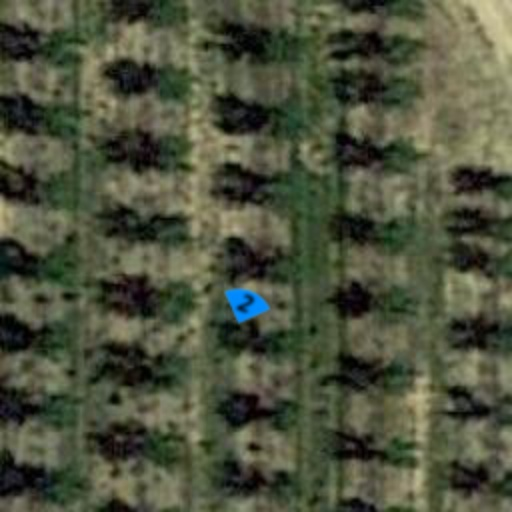quarter_circle: (216, 274, 276, 334)
